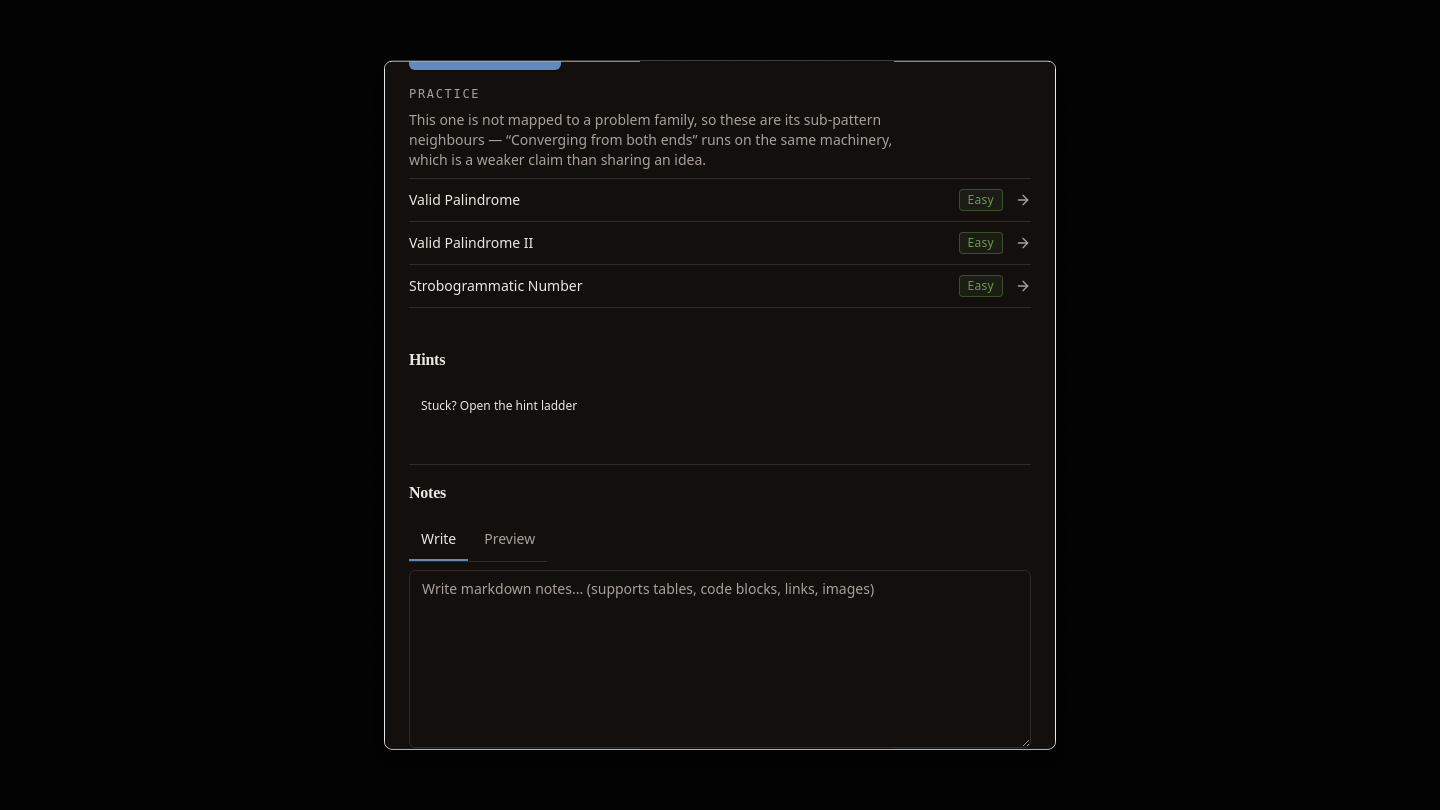
the hint ladder › an unmapped question says there is no ladder rather than inventing one
(page scrolled)
Click the button "Stuck? Open the hint ladder". click: click(499, 405)
box: left=409, top=387, right=589, bottom=423
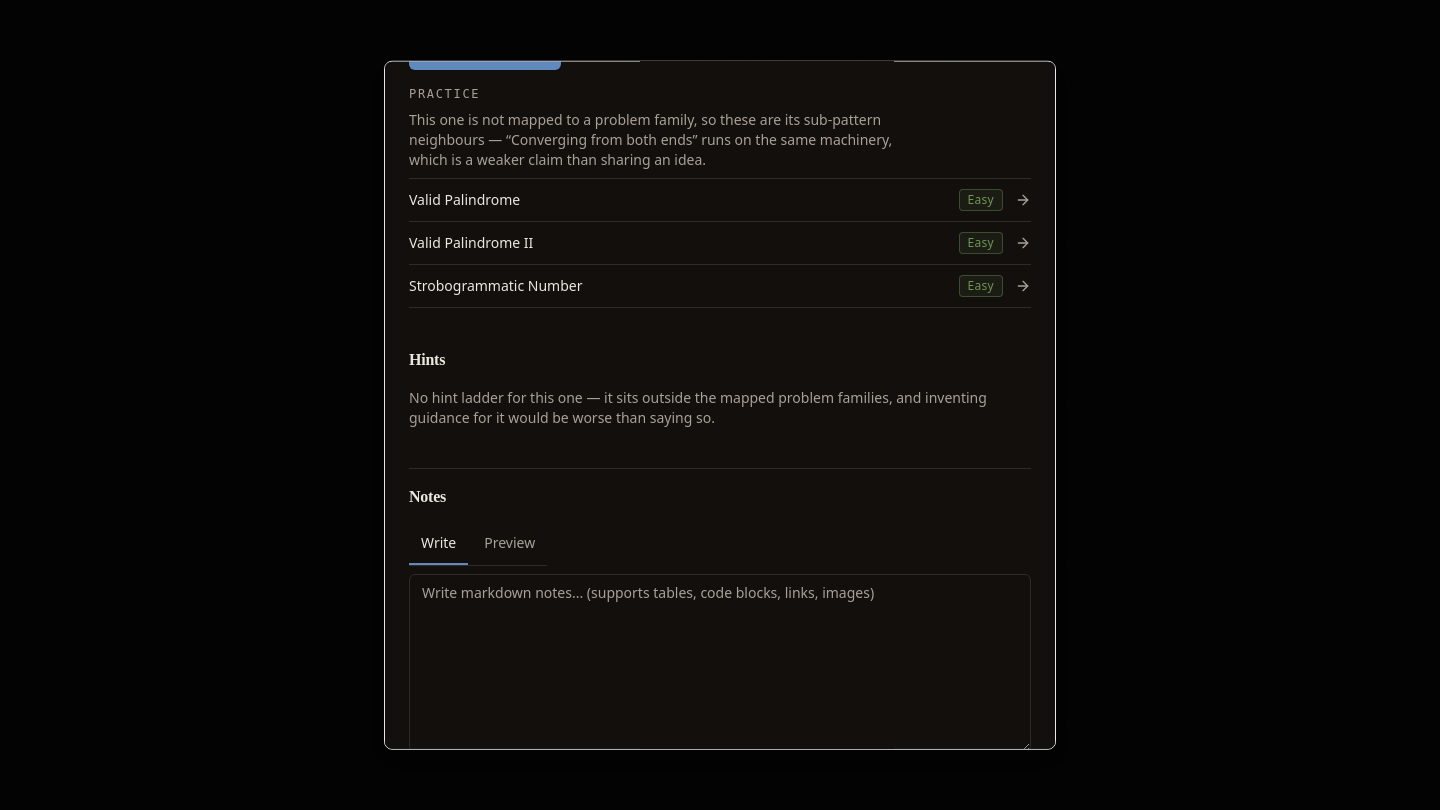
Expected: the text "sits outside the mapped problem families" is shown, left=409, top=387, right=987, bottom=426
